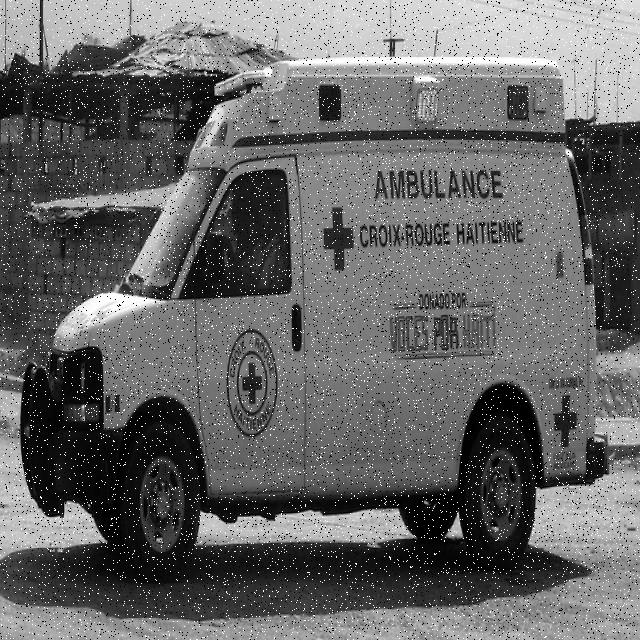Ambulance: (18, 58, 611, 585)
